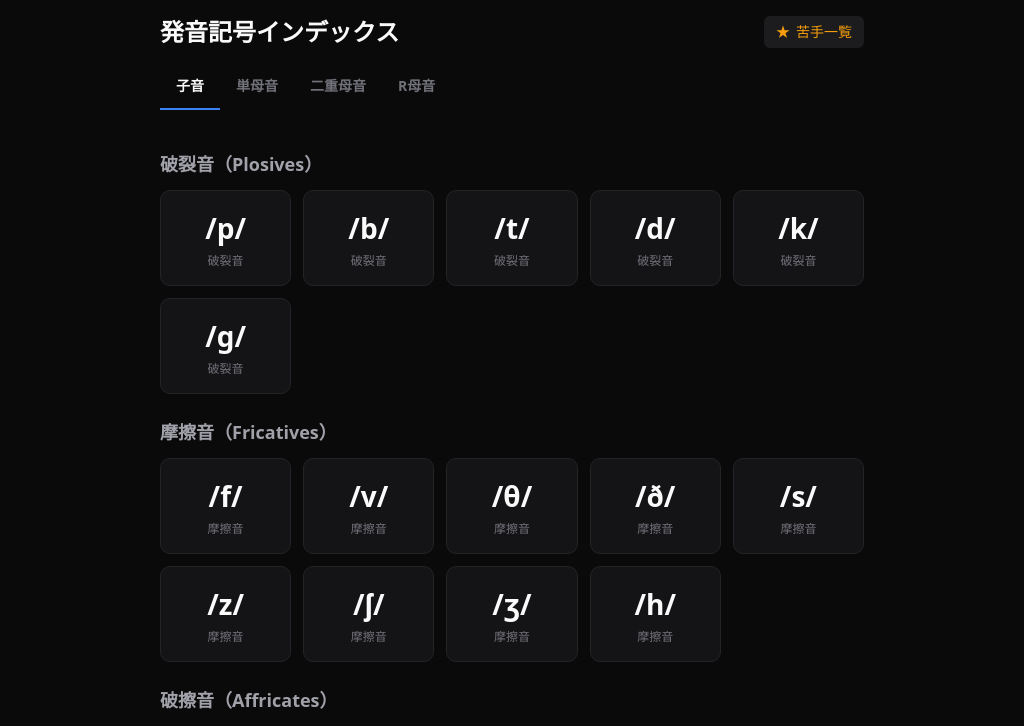
Scenario: Page integration › shows phoneme details inside the modal
The image size is (1024, 726).
Click the button "/p/ 破裂音": x=226, y=238 x1=160 y1=190 x2=291 y2=286
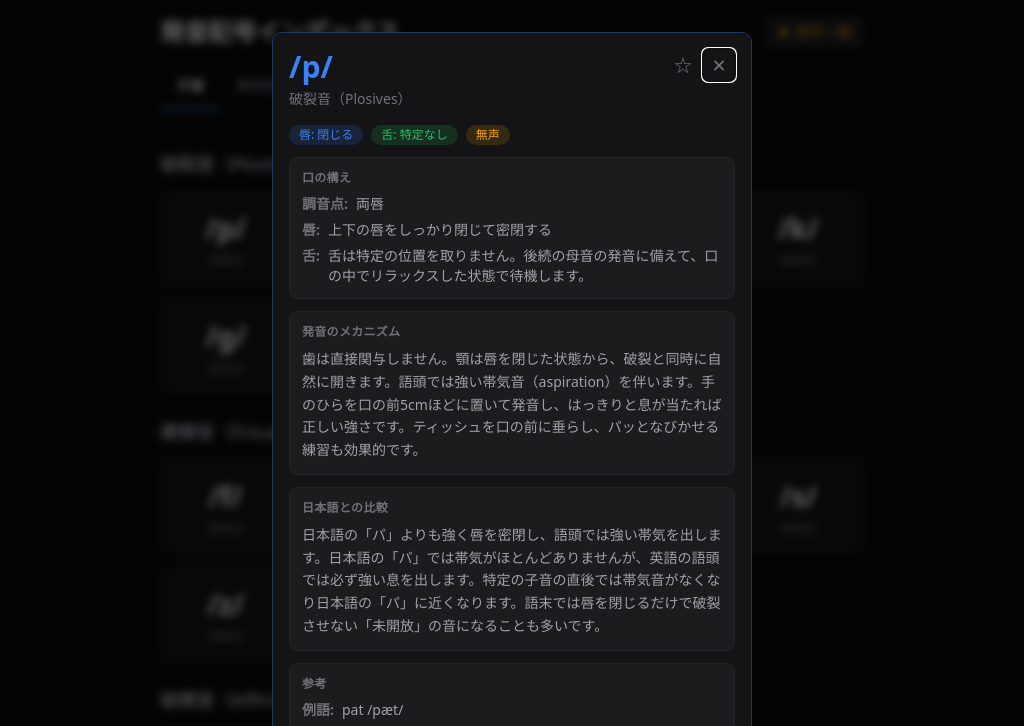
Check: the text "pat /pæt/" is shown, box x1=342 y1=700 x2=403 y2=720
